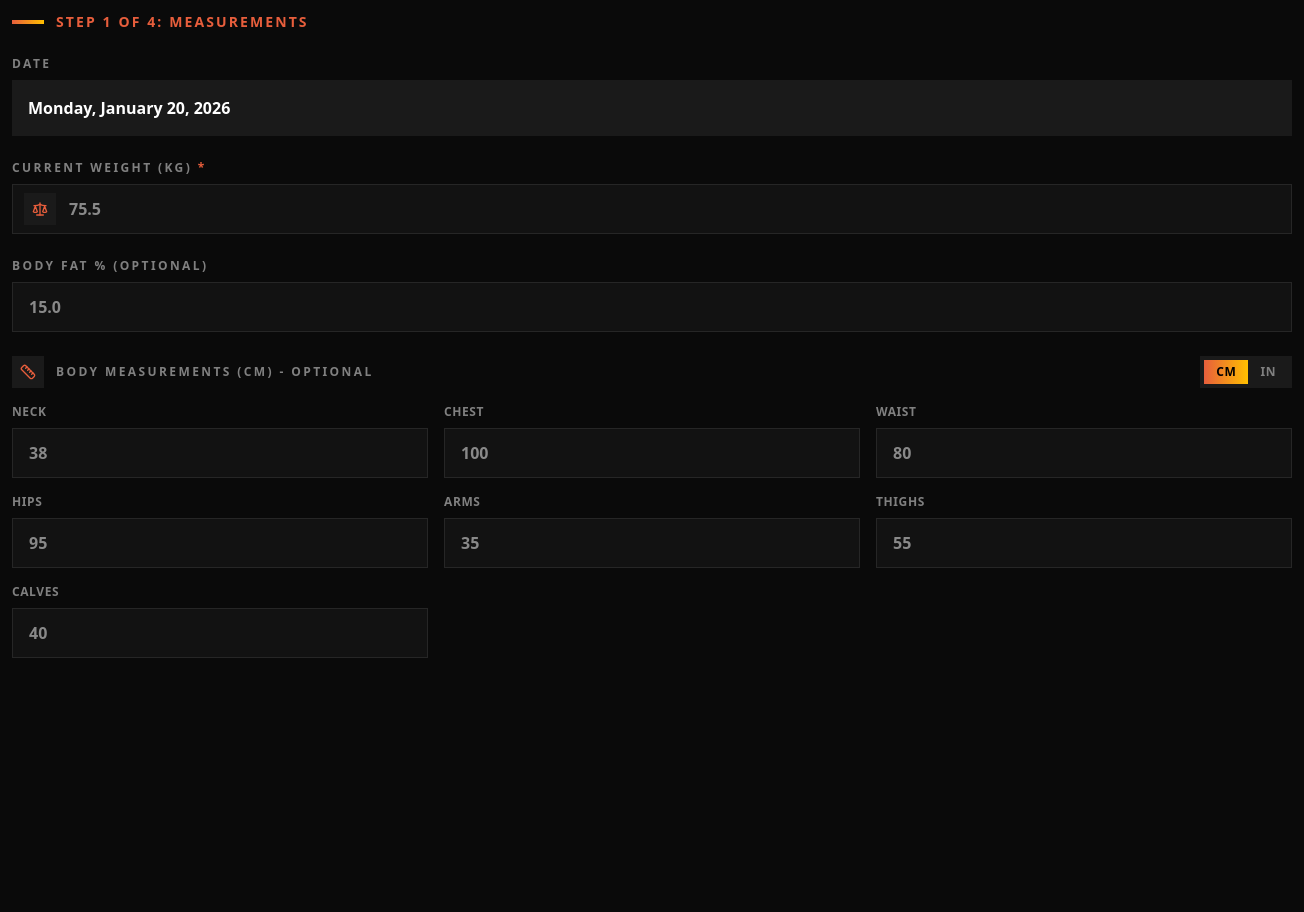
Test case: MeasurementsStep Component › cm / inches unit toggle › updates the section label when switching units
Expected: the text "Body Measurements (cm) - Optional" is shown, [56,364,374,380]
Click the button "in". click: click(1268, 372)
box: [1248,360,1288,384]
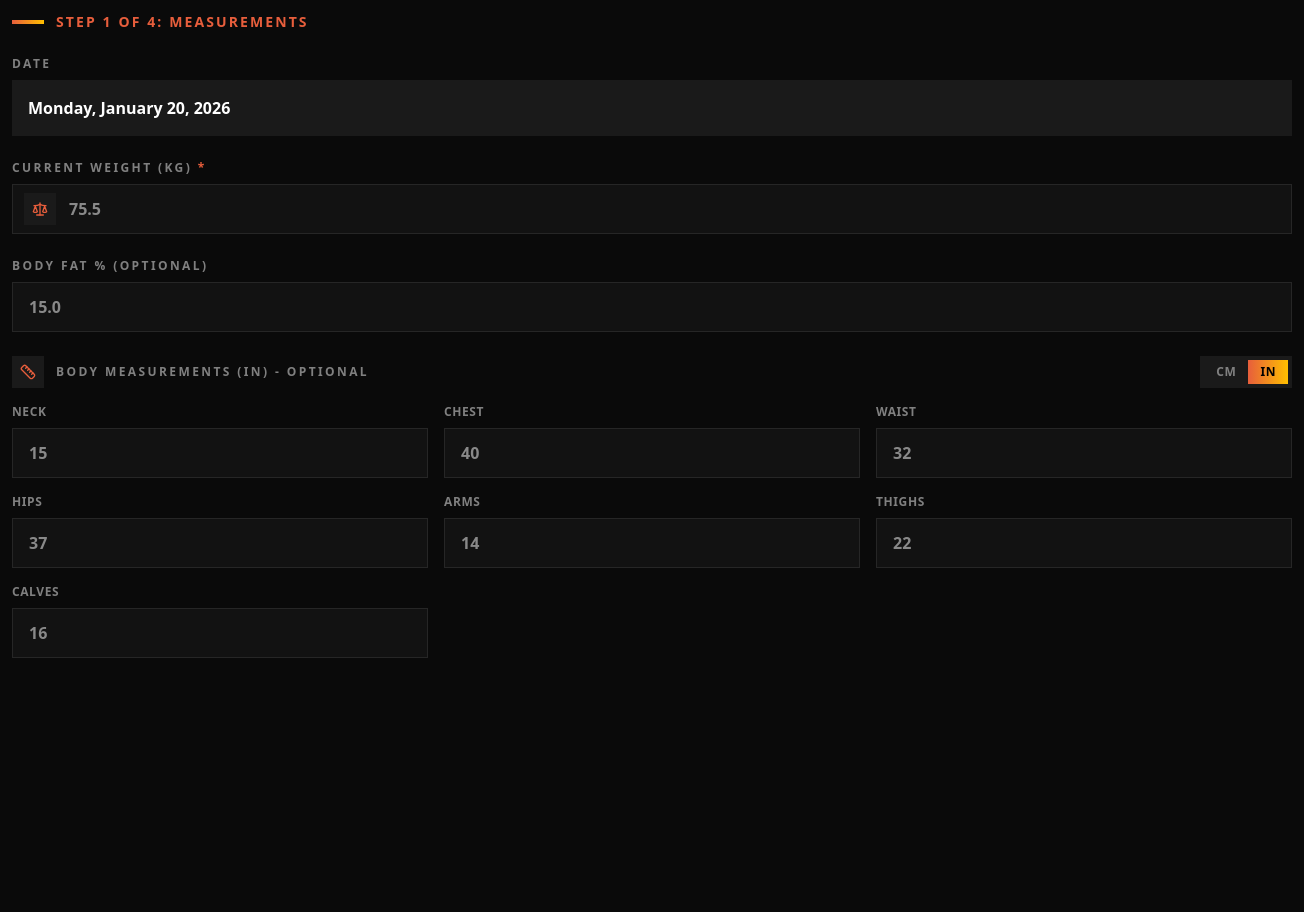
Result: the text "Body Measurements (in) - Optional" is shown at [56,364,369,380]
